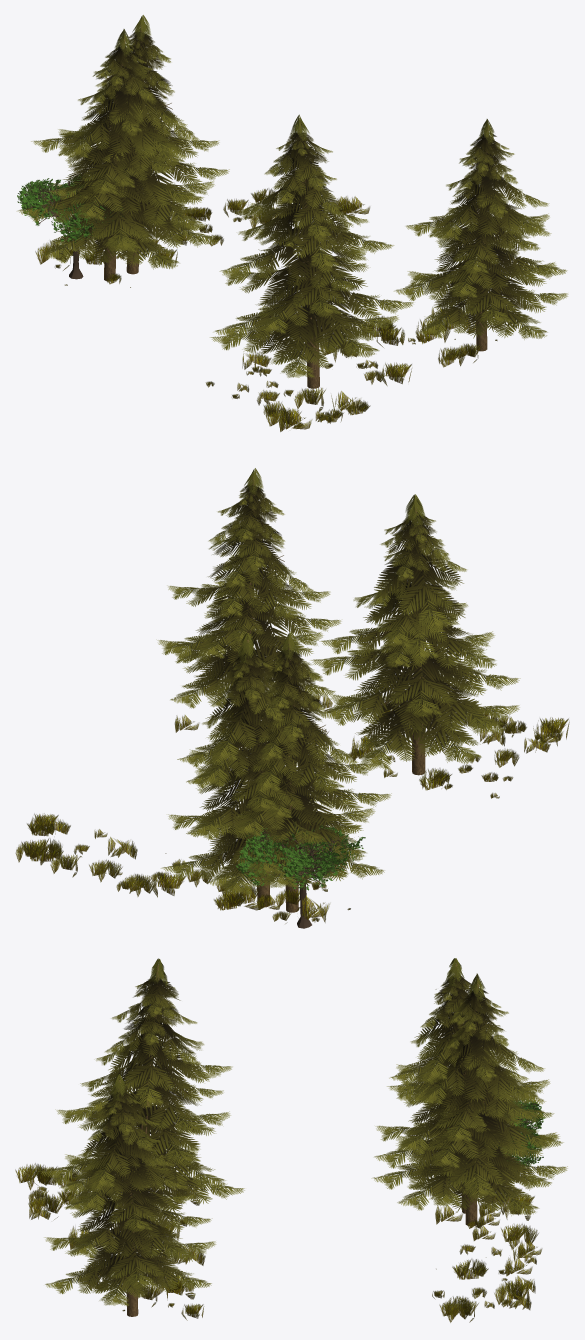
The picture shows the model from 3 angles, top to bottom: view 1: azimuth 30°, elevation 25°; view 2: azimuth 150°, elevation 25°; view 3: azimuth 270°, elevation 25°; orthographic projection. The views are drawn at different scales.
Visible parts, largest first — view 1: Low Poly Stylized 2D Grass.173; view 2: Low Poly Stylized 2D Grass.173; view 3: Low Poly Stylized 2D Grass.173.
Part boxes in pixels (x1=…): Low Poly Stylized 2D Grass.173: x1=17, y1=15, x2=568, y2=431; Low Poly Stylized 2D Grass.173: x1=15, y1=468, x2=569, y2=928; Low Poly Stylized 2D Grass.173: x1=15, y1=958, x2=567, y2=1322.
Bounding box in the file's own units: 20.74 × 14.29 × 26.47.
5 materials, 4 textured.
